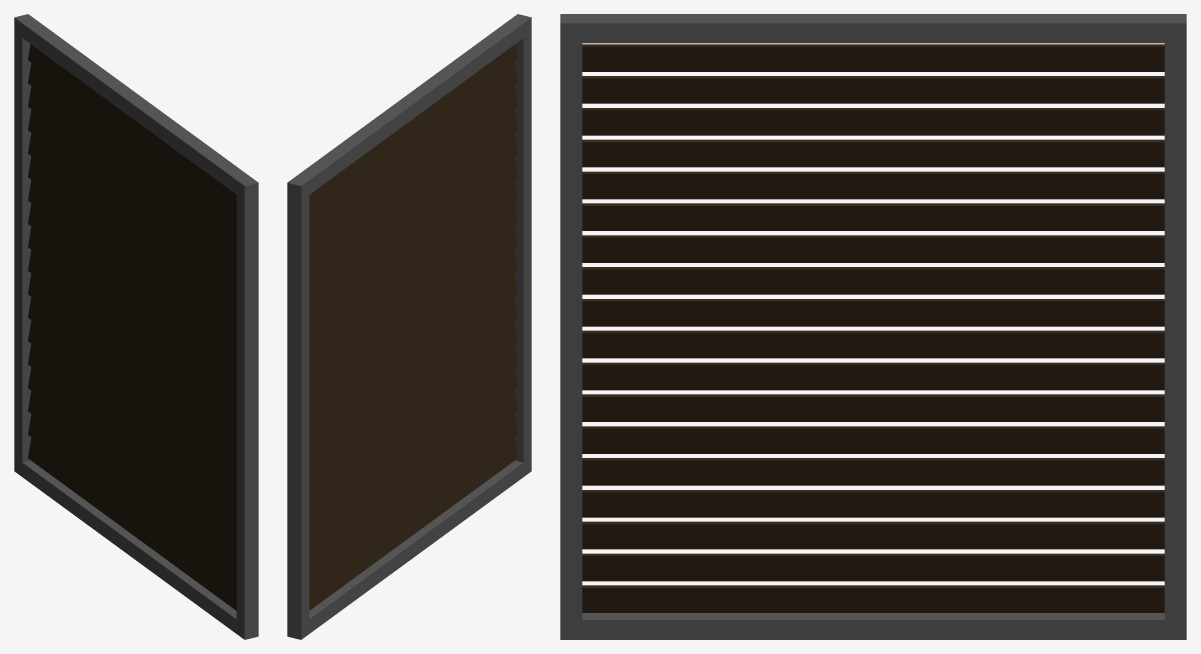
3 views of the same model, side by side, from view 1: azimuth 30°, elevation 25°; view 2: azimuth 150°, elevation 25°; view 3: azimuth 270°, elevation 25° (orthographic). The views are drawn at different scales.
Parts seen in each view (by area): view 1: fill (×18), frame_left (×2), frame (×2); view 2: fill (×18), frame_left (×2), frame (×2); view 3: fill (×18), frame (×2), frame_left (×2).
Part boxes in pixels (left/top/right/bottom): fill (×18): left=28, top=44, right=236, bottom=610; frame_left (×2): left=14, top=14, right=258, bottom=639; frame (×2): left=22, top=20, right=250, bottom=633; fill (×18): left=309, top=44, right=517, bottom=610; frame_left (×2): left=287, top=14, right=531, bottom=639; frame (×2): left=295, top=20, right=523, bottom=633; fill (×18): left=582, top=44, right=1164, bottom=612; frame (×2): left=582, top=14, right=1164, bottom=639; frame_left (×2): left=560, top=14, right=1186, bottom=639.
Bounding box in the file's own units: 1.97 × 56.19 × 61.02.
